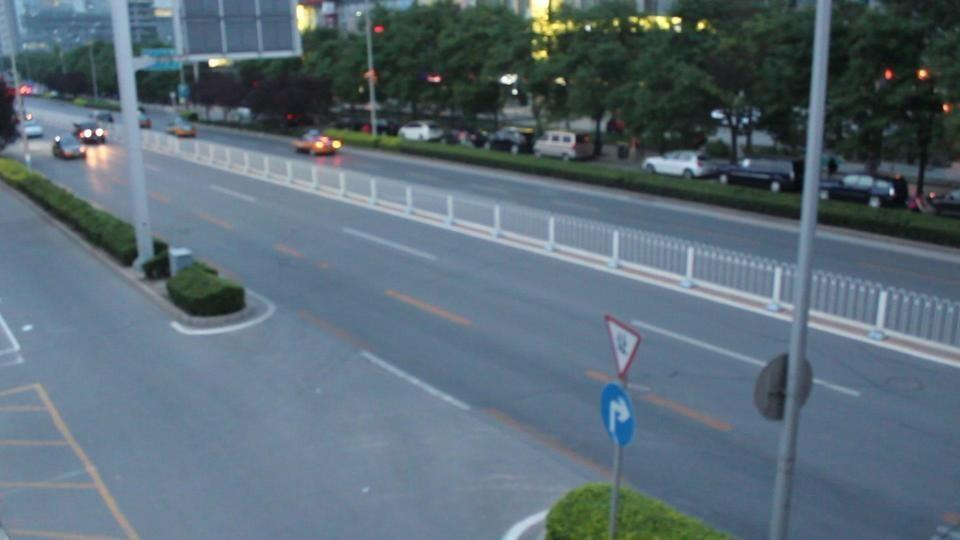car: (818, 173, 907, 207), (641, 150, 731, 181), (717, 159, 800, 192), (533, 131, 594, 161), (292, 129, 343, 155), (484, 128, 533, 155), (398, 122, 448, 143), (51, 134, 86, 160), (929, 188, 960, 217), (74, 124, 110, 144), (166, 121, 197, 138), (21, 120, 44, 139), (136, 113, 152, 129)
